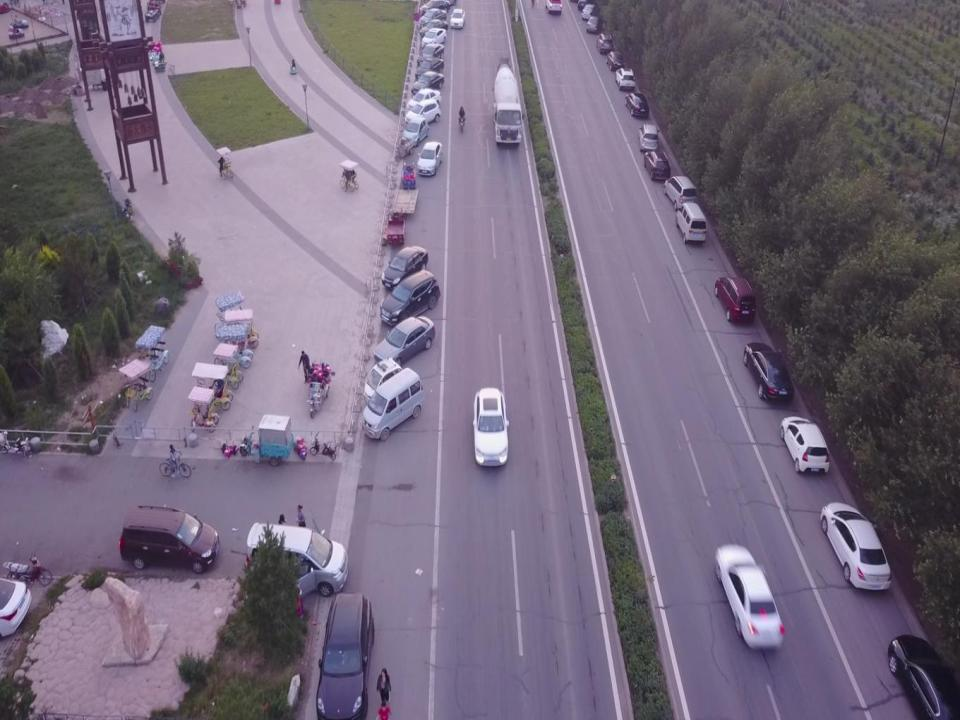car: (243, 522, 349, 604), (316, 592, 376, 720), (714, 542, 785, 650), (820, 501, 892, 592), (886, 633, 960, 718), (380, 268, 441, 326), (742, 342, 796, 404), (778, 415, 832, 475), (374, 315, 436, 367), (471, 387, 509, 468), (381, 246, 429, 290), (404, 97, 442, 125), (406, 86, 442, 114), (401, 115, 430, 148), (416, 141, 444, 175), (643, 150, 671, 182), (411, 70, 445, 96), (415, 55, 445, 81), (416, 42, 444, 68), (638, 124, 660, 153), (625, 92, 649, 118), (418, 18, 448, 38), (421, 27, 447, 48), (419, 8, 448, 26), (615, 67, 636, 91), (418, 0, 450, 15), (606, 50, 625, 71), (596, 33, 614, 55), (586, 14, 604, 34), (581, 4, 601, 20), (450, 8, 465, 28), (545, 0, 563, 15)
truck: (492, 56, 525, 144)
van: (119, 504, 220, 574), (360, 366, 424, 441), (713, 274, 758, 326), (676, 201, 706, 244), (663, 175, 697, 211)
